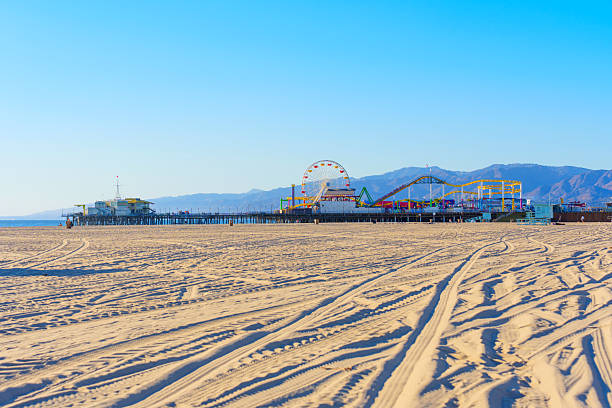vehicle_track: (115, 243, 460, 406), (0, 300, 302, 405), (201, 286, 430, 405), (368, 239, 502, 406), (20, 239, 89, 268), (0, 239, 67, 267)
